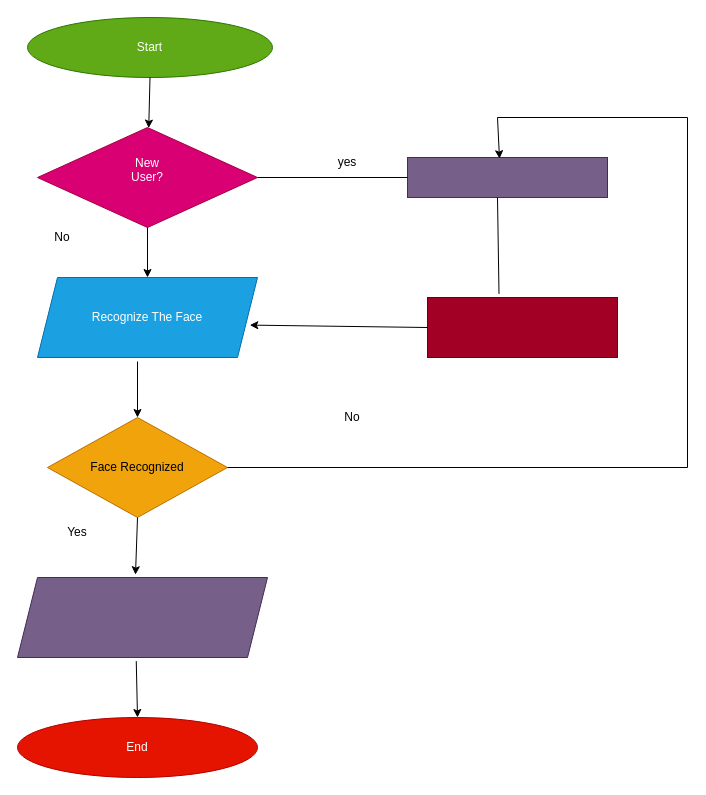
Some shapes in this 706 by 795 pixel diagram are drawn without their labels. The centre of each missing label's shape, as x and y in pixels:
Give your Photograph: [507,177]
Store in csv file with registration Number and Date Time of Entry: [142,617]
Store the face data in folder on your name: [522,327]
